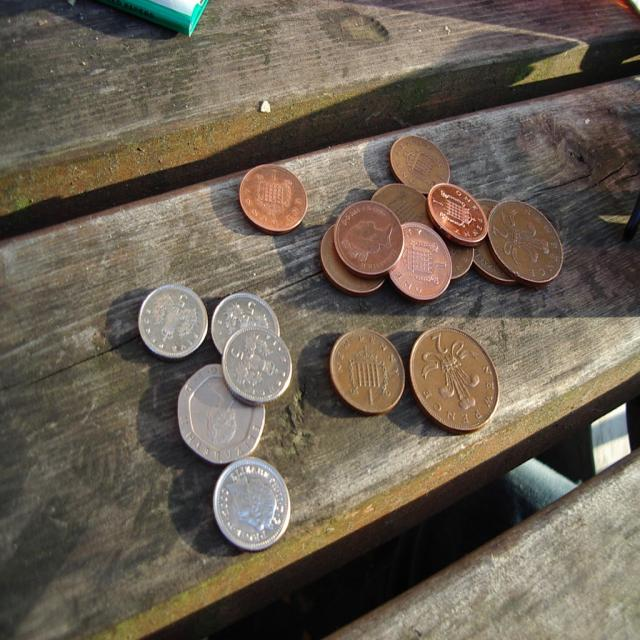Coin: (408, 326, 502, 433), (178, 361, 265, 465), (326, 324, 409, 417), (210, 455, 292, 549), (485, 197, 567, 283), (219, 323, 292, 405), (381, 223, 454, 303), (332, 197, 404, 278), (135, 281, 206, 362), (318, 220, 388, 294), (239, 164, 308, 237), (473, 197, 529, 284), (210, 291, 279, 356), (427, 182, 490, 244), (389, 138, 454, 196), (369, 183, 438, 230), (436, 223, 475, 283)
